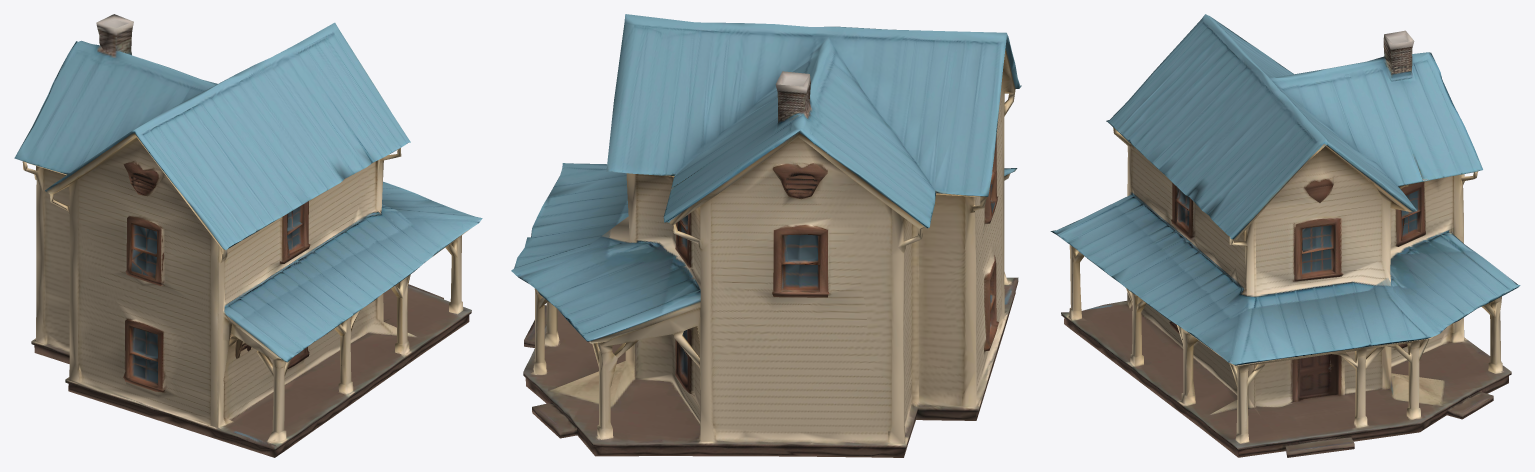
The model's file is house.glb.
The picture shows the model from 3 angles, left to right: view 1: azimuth 30°, elevation 25°; view 2: azimuth 150°, elevation 25°; view 3: azimuth 270°, elevation 25°; orthographic projection. The views are drawn at different scales.
Parts seen in each view (by area): view 1: tripo_node_72f9cf07-7073-4b75-9a63-411ddc6c1279; view 2: tripo_node_72f9cf07-7073-4b75-9a63-411ddc6c1279; view 3: tripo_node_72f9cf07-7073-4b75-9a63-411ddc6c1279.
Boxes of the visible parts, x1,y1,x2,y2 form: tripo_node_72f9cf07-7073-4b75-9a63-411ddc6c1279: (14, 14, 482, 457); tripo_node_72f9cf07-7073-4b75-9a63-411ddc6c1279: (511, 14, 1021, 457); tripo_node_72f9cf07-7073-4b75-9a63-411ddc6c1279: (1050, 14, 1520, 457).
Size of the model in its own units: 8.21 by 6 by 8.71.
1 material, 1 textured.
